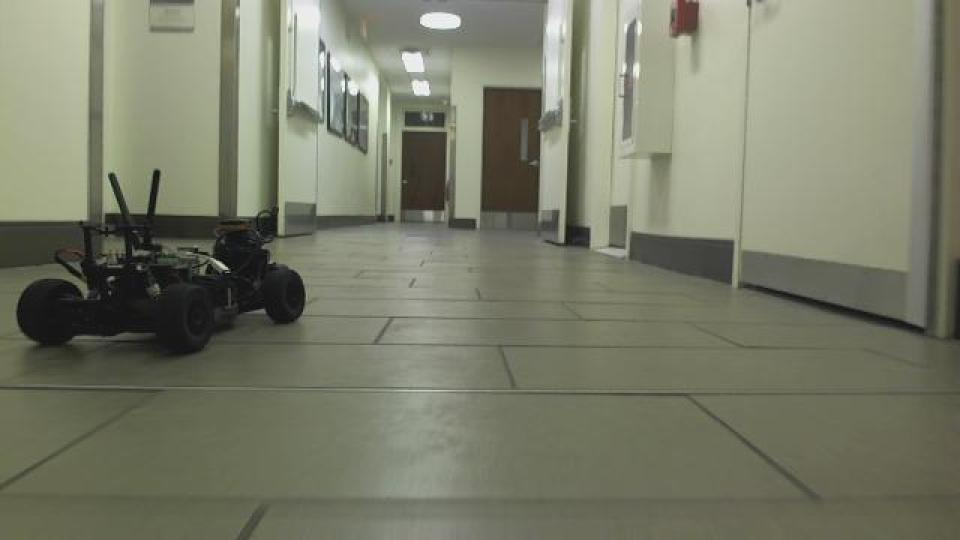car: (12, 167, 308, 357)
